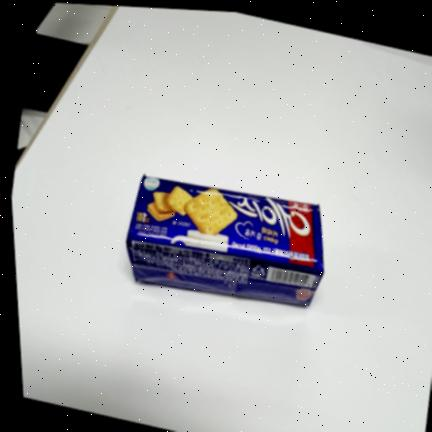cracker_ace: (124, 170, 324, 313)
